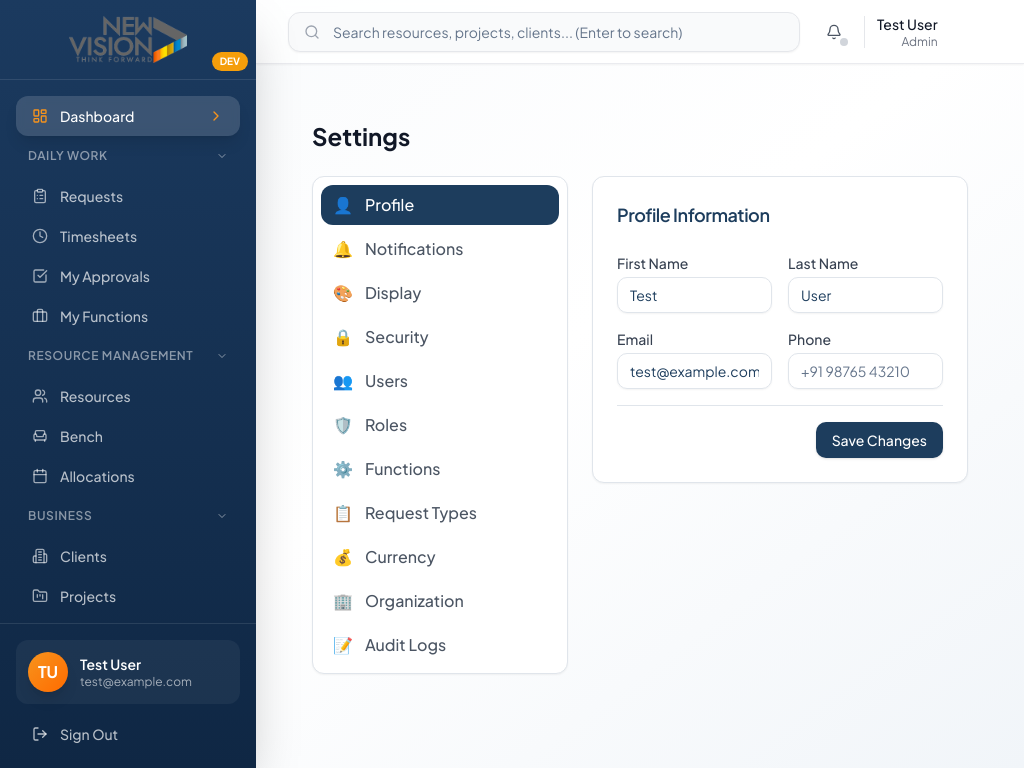
Scenario: SettingsPage › Tab Switching › switches to Security tab when clicked
Click the button "🔒 Security" at (440,337), box x1=321 y1=317 x2=559 y2=357
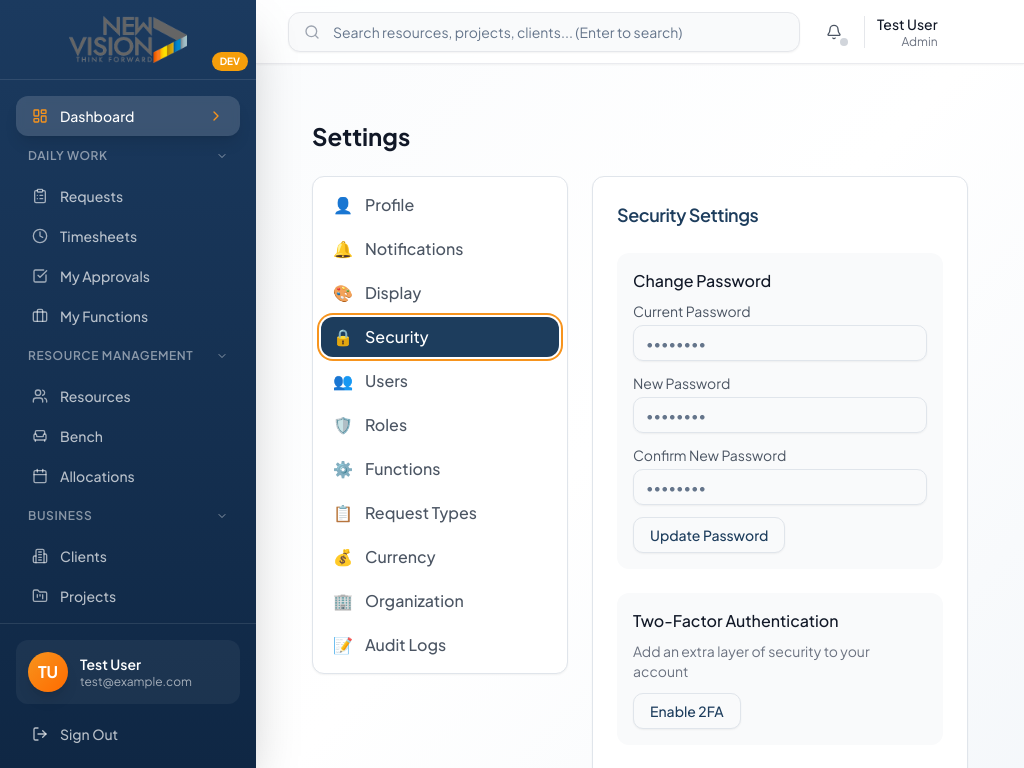
Expected: the heading "Change Password" is shown, x1=633 y1=270 x2=771 y2=291
